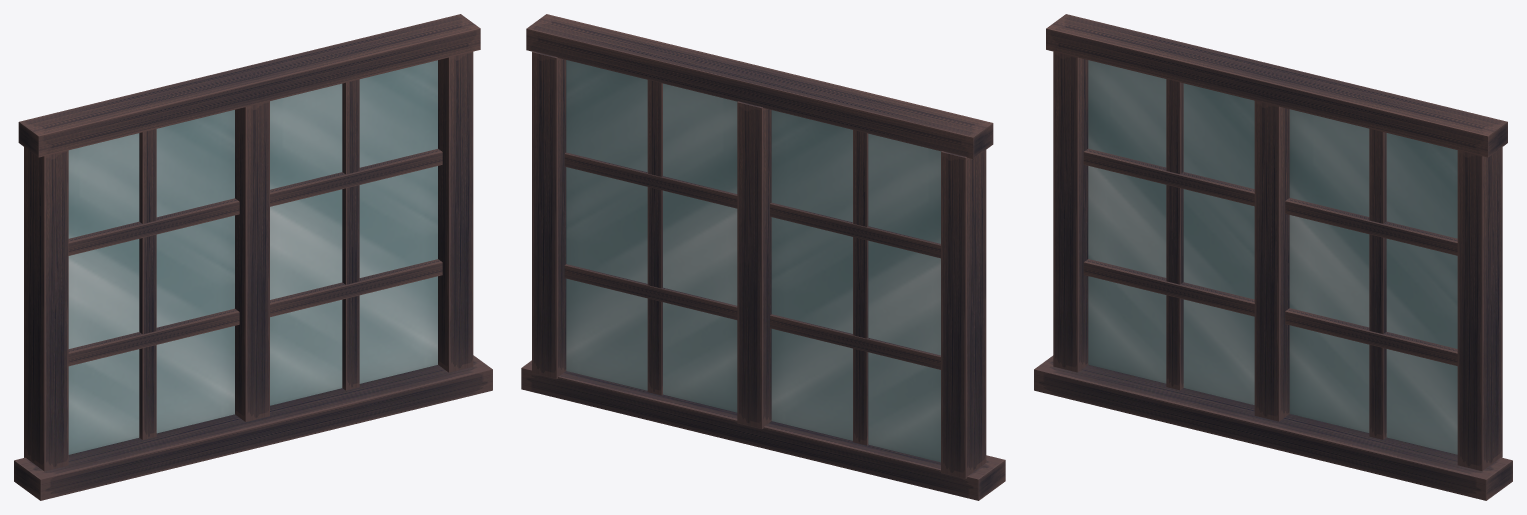
File: Window_D.fbx
3 views of the same model, side by side, from view 1: azimuth 30°, elevation 25°; view 2: azimuth 150°, elevation 25°; view 3: azimuth 330°, elevation 25° (orthographic).
Parts seen in each view (by area): view 1: Window_D; view 2: Window_D; view 3: Window_D.
Part boxes in pixels (x1,y1,x2,y2): Window_D: (14, 14, 492, 500); Window_D: (521, 14, 1005, 500); Window_D: (1034, 14, 1512, 500).
Size of the model in its own units: 0.2821 by 0.2134 by 0.0304.
